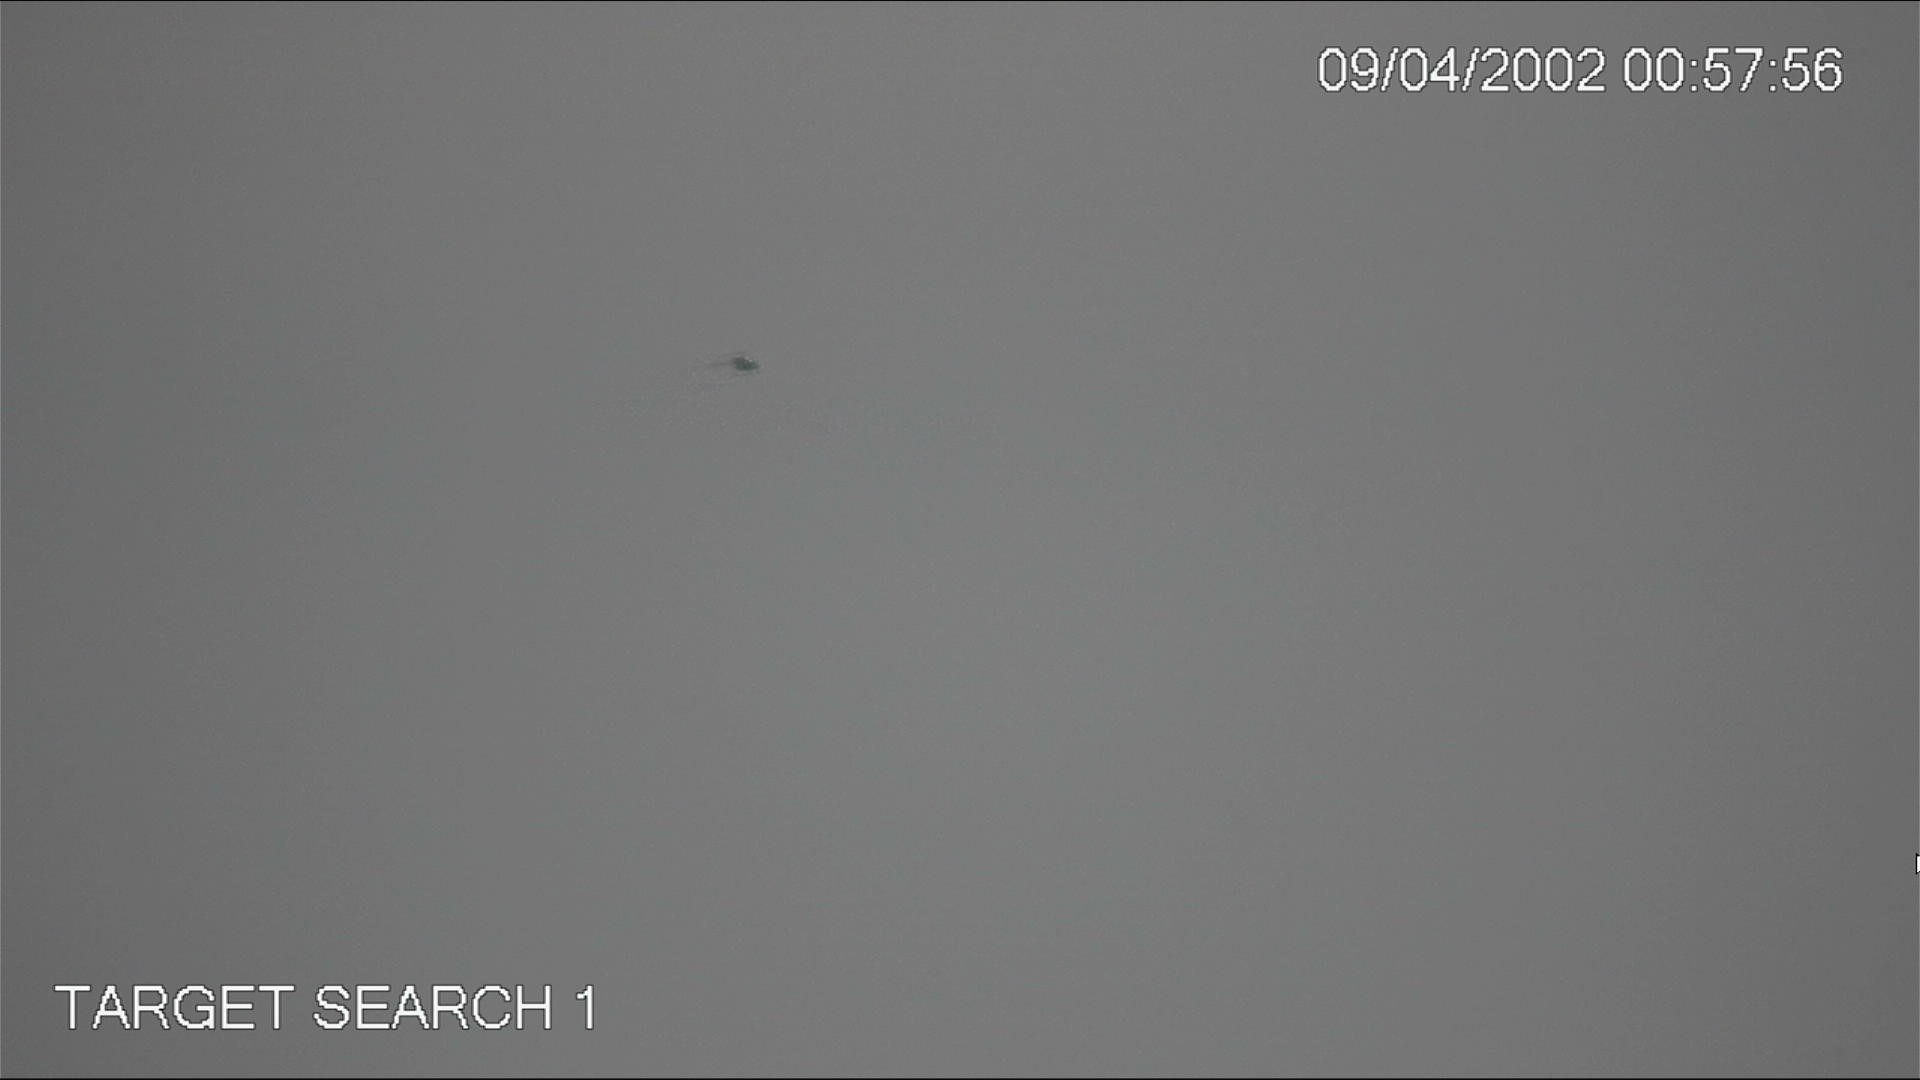SU_30: (720, 351, 765, 375)
